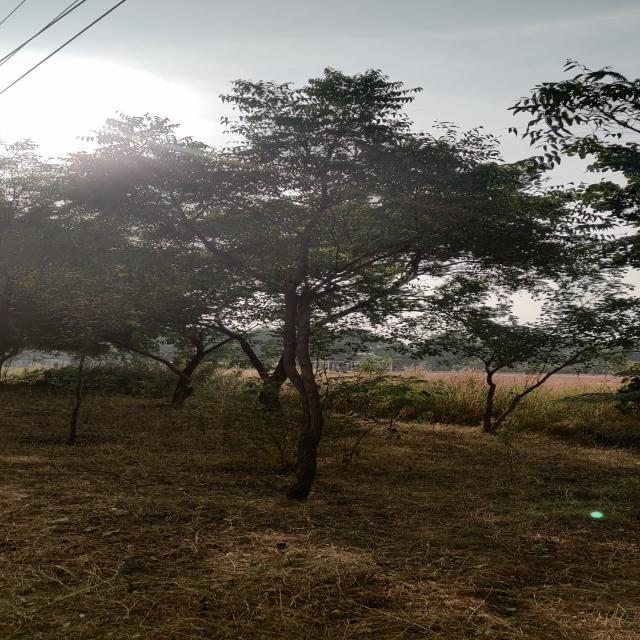Neem Tree: (1, 71, 640, 335)
